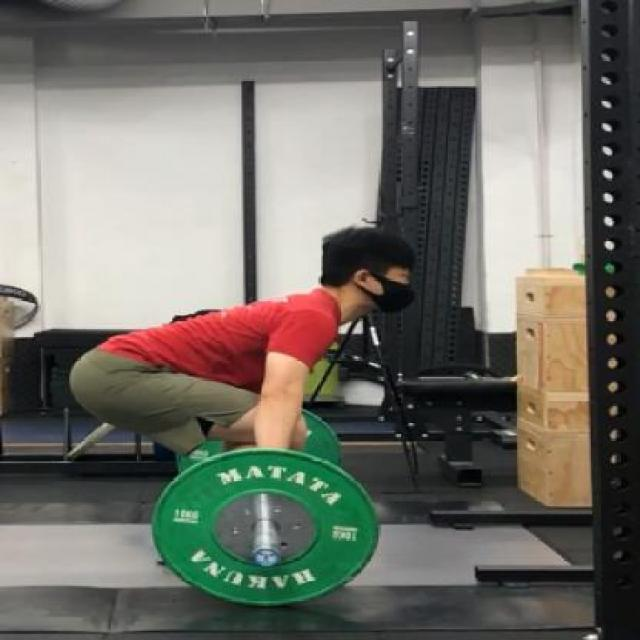Barbell: (251, 546, 286, 568)
